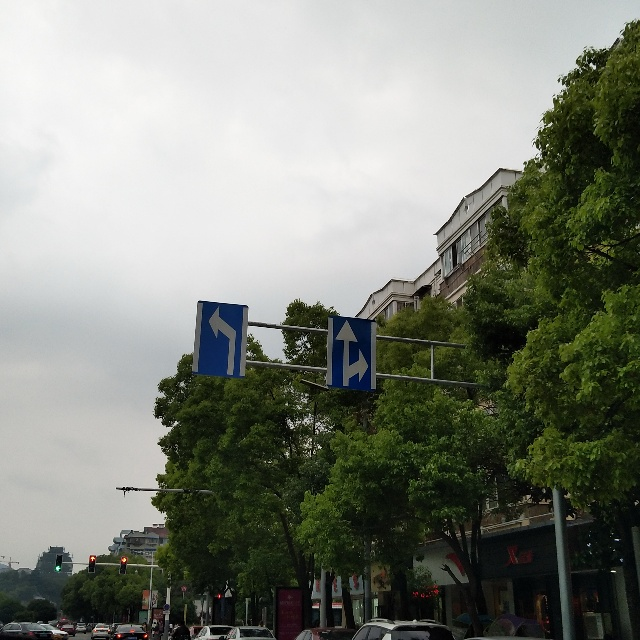left: (200, 302, 245, 376)
